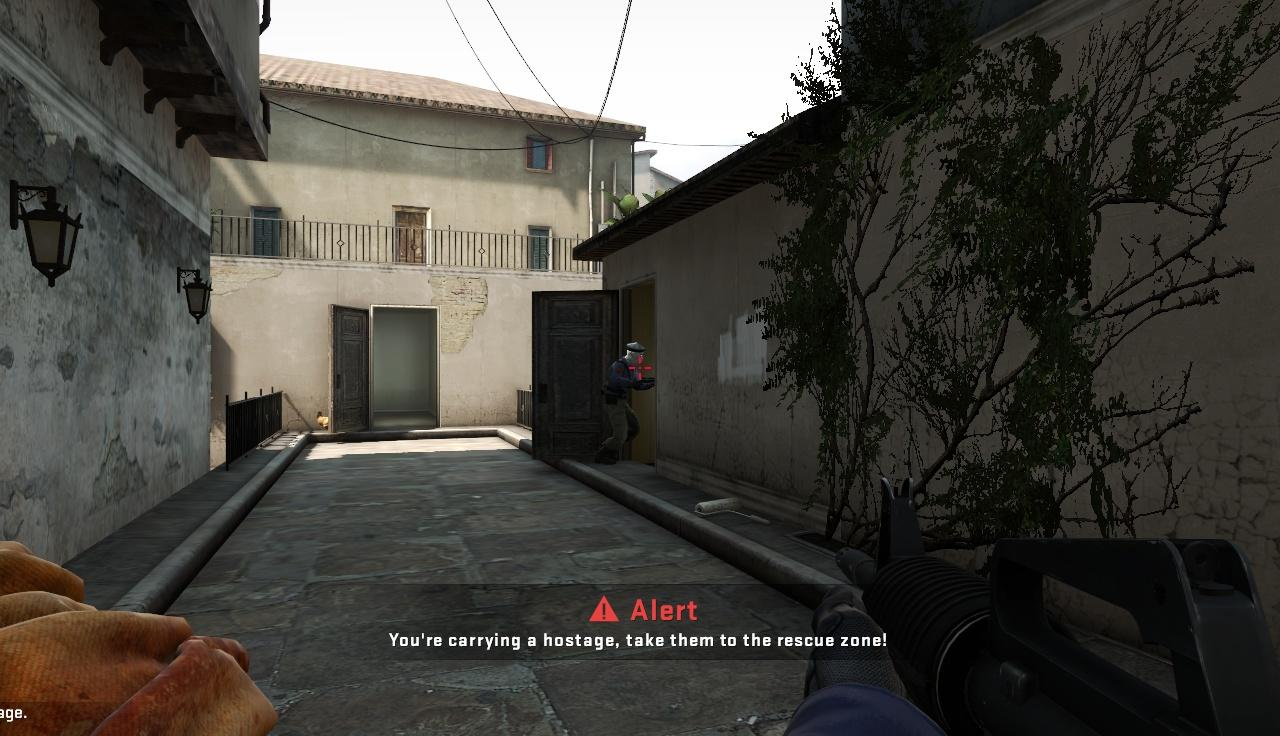rifle: (825, 473, 1280, 736)
tt: (604, 341, 645, 462)
tthead: (625, 340, 644, 366)
